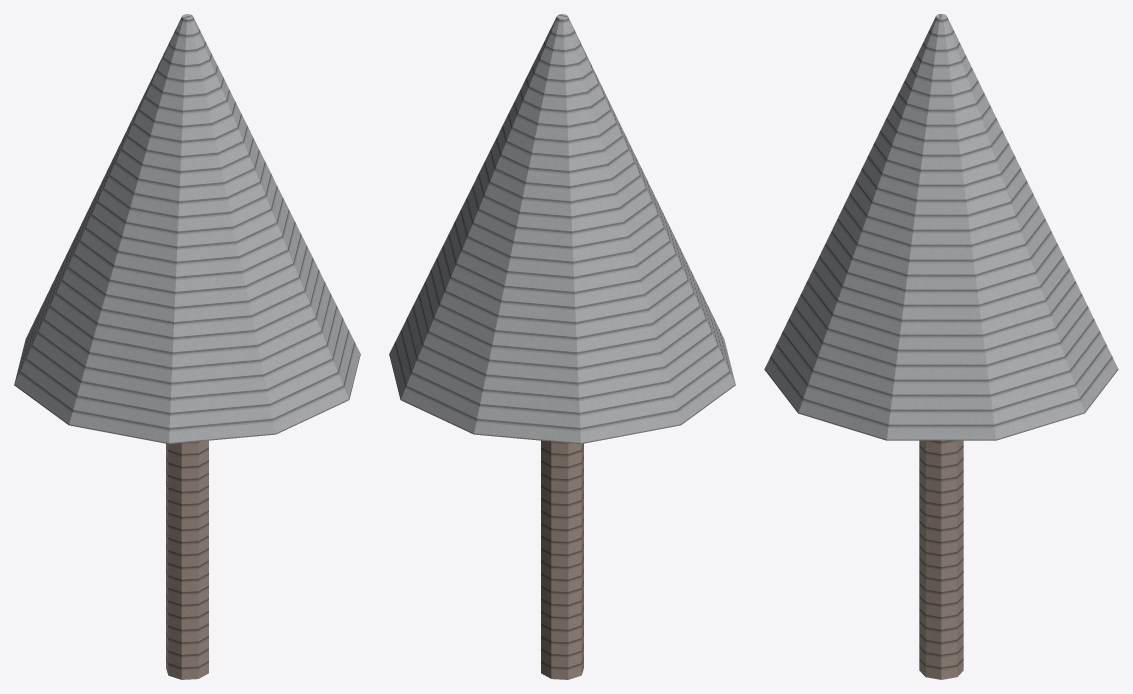
Rendered from tree_white_pine_blue_spruce.glb.
3 views of the same model, side by side, from view 1: azimuth 30°, elevation 25°; view 2: azimuth 150°, elevation 25°; view 3: azimuth 270°, elevation 25° (orthographic).
Parts seen in each view (by area): view 1: tree_white_pine_blue_spruce-col; view 2: tree_white_pine_blue_spruce-col; view 3: tree_white_pine_blue_spruce-col.
Part boxes in pixels (<box>): tree_white_pine_blue_spruce-col: <box>14,14,360,679</box>; tree_white_pine_blue_spruce-col: <box>389,14,735,679</box>; tree_white_pine_blue_spruce-col: <box>764,14,1118,679</box>.
Bounding box in the file's own units: 3.04 × 6.52 × 3.2.
2 materials, 2 textured.
